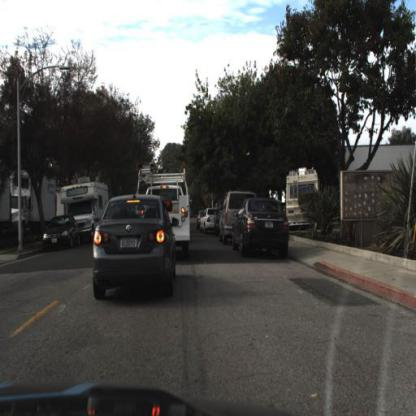car: (92, 195, 175, 296), (230, 197, 291, 263), (168, 161, 197, 273), (285, 168, 321, 230), (73, 180, 106, 245), (218, 190, 254, 244), (45, 212, 81, 251), (215, 192, 235, 246), (200, 208, 217, 236)
truck: (142, 172, 192, 253), (277, 160, 326, 238), (10, 171, 56, 235), (62, 182, 107, 240)
